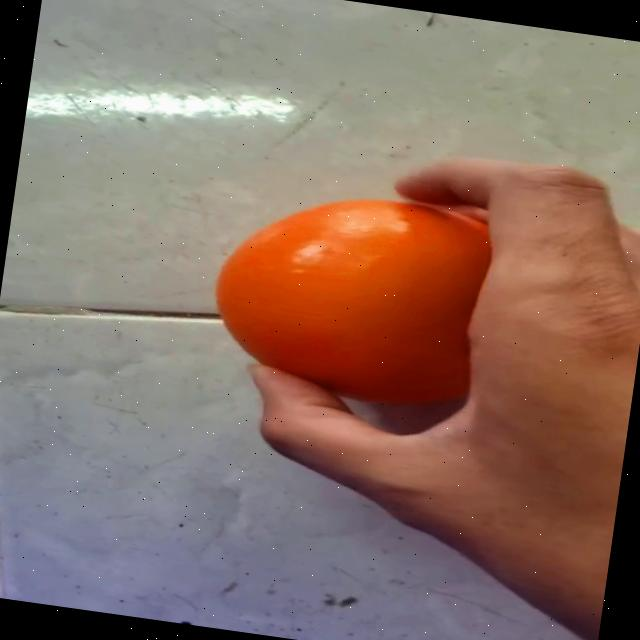orange: (130, 126, 605, 470)
